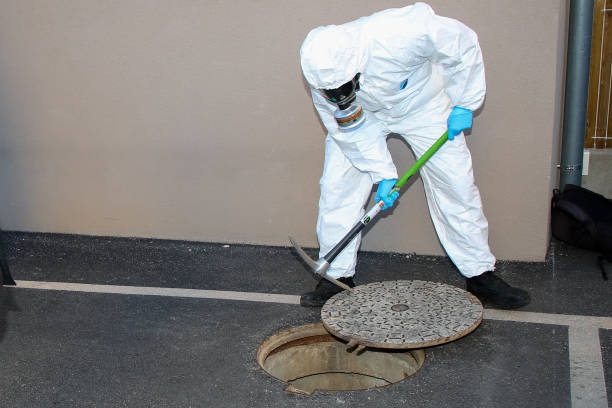open_manhole: (262, 316, 440, 396)
